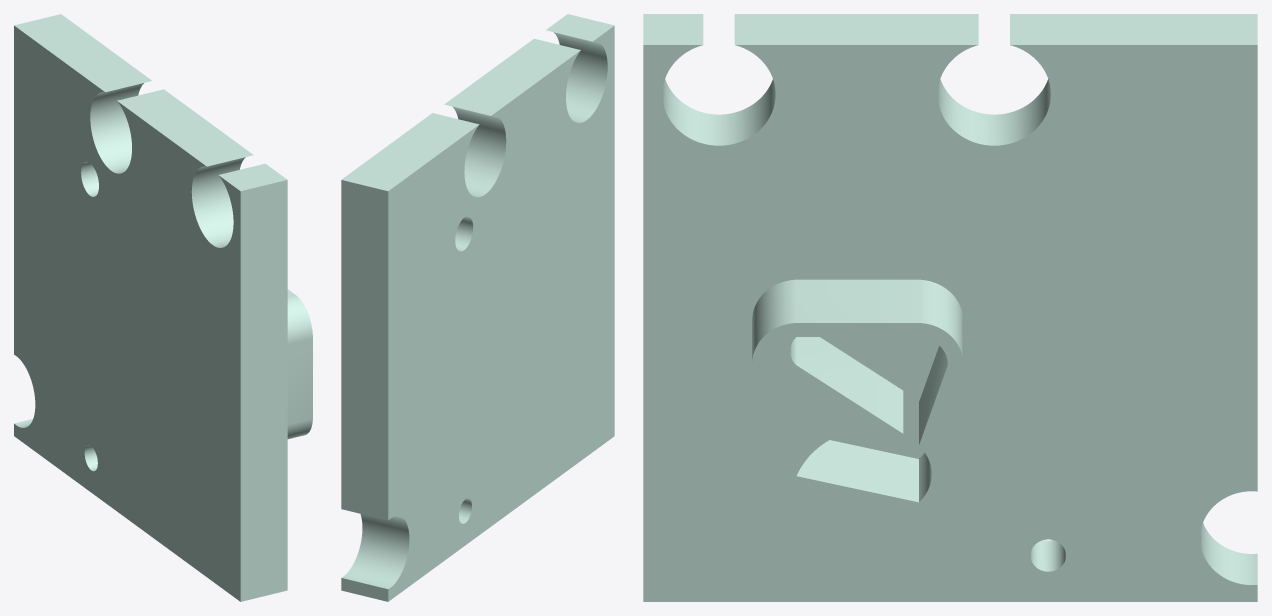
3 renders of one model, left to right at view 1: azimuth 30°, elevation 25°; view 2: azimuth 150°, elevation 25°; view 3: azimuth 270°, elevation 25°, orthographic. The views are drawn at different scales.
Visible parts, largest first — view 1: Renderer Node; view 2: Renderer Node; view 3: Renderer Node.
Part boxes in pixels (x1,y1,x2,y2): Renderer Node: (14, 14, 312, 601); Renderer Node: (341, 14, 614, 601); Renderer Node: (643, 14, 1257, 601).
Size of the model in its own units: 0.4297 by 1.5 by 1.5.
